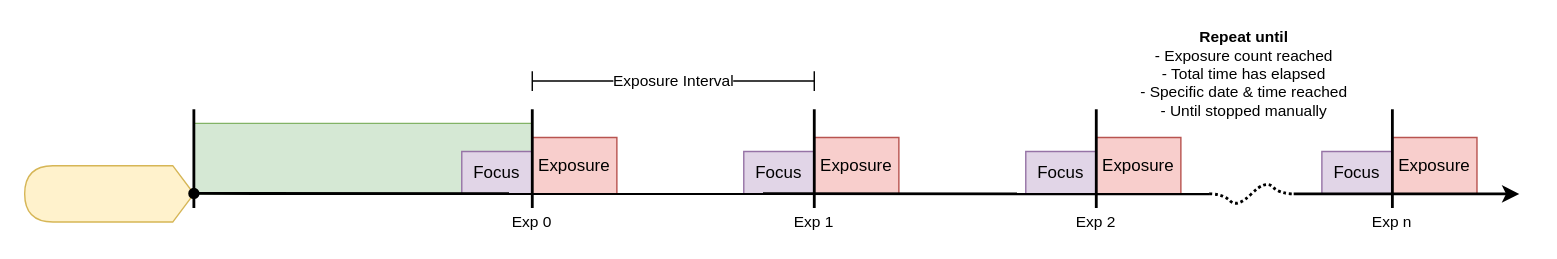
This 1557x259 diagram has some shape labels left out. The box of each missing label's shape, as (x1, y1, x2, y2) in pixels:
Initial Delay: (192, 122, 532, 194)
Start Date & Time: (23, 164, 194, 222)
